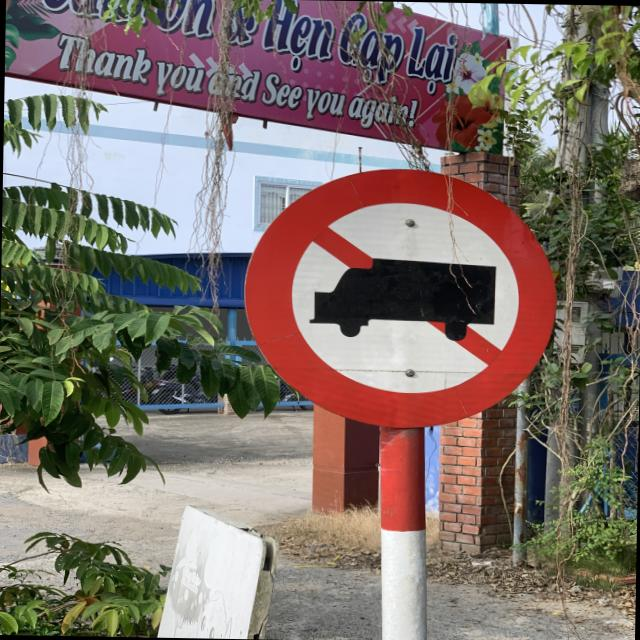Cam_Xe_Tai: (240, 165, 564, 430)
